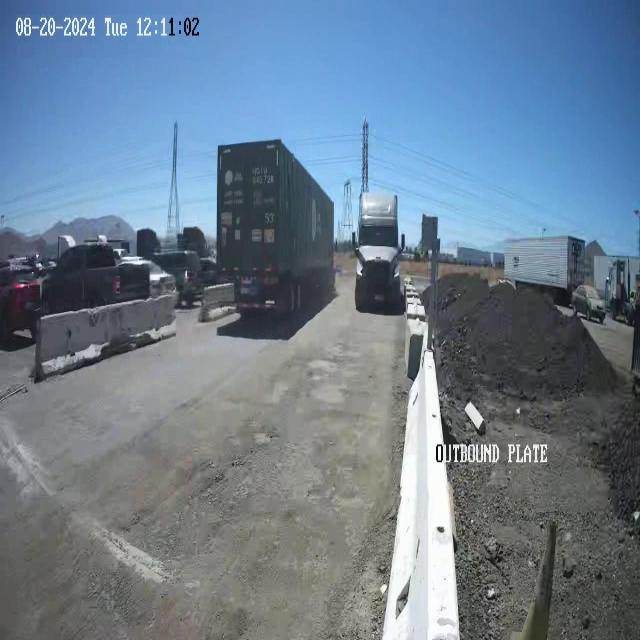CONTAINER: (217, 143, 336, 279)
